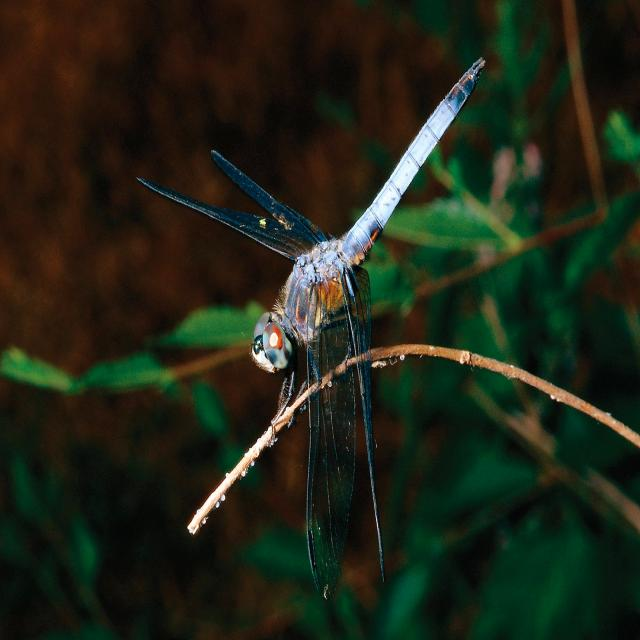dragonfly: (141, 61, 484, 599)
